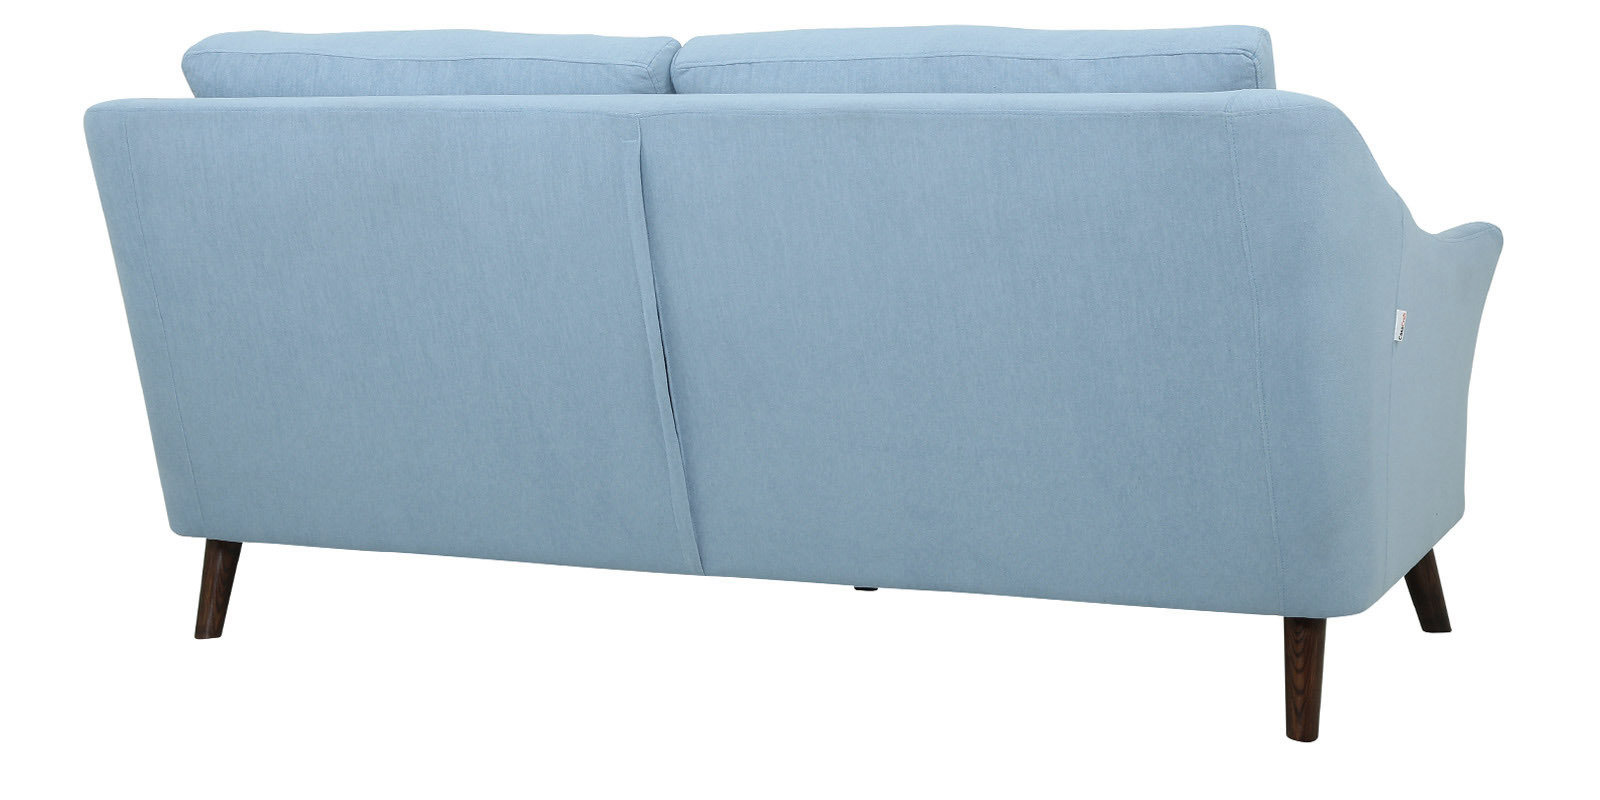Juan Three Seater Sofs in Ice Blue Colour by CasaCraft: (79, 19, 1505, 743)
